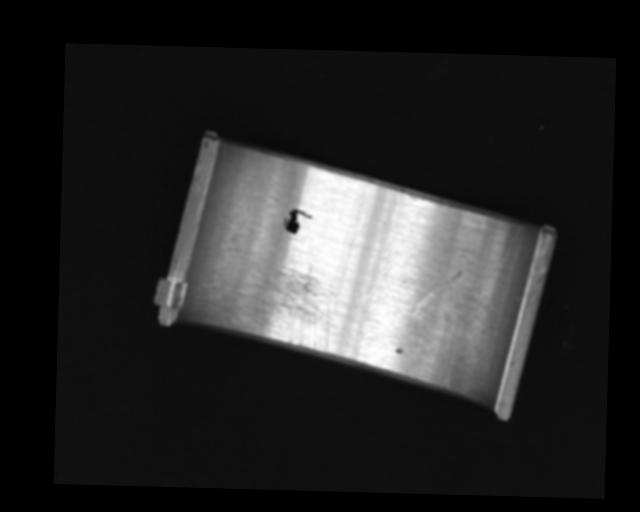blot: (283, 208, 313, 235)
bruise: (395, 345, 406, 355)
nick: (360, 189, 406, 304), (476, 221, 523, 308), (410, 269, 462, 316), (410, 310, 424, 364)
scratch: (222, 263, 342, 353)
